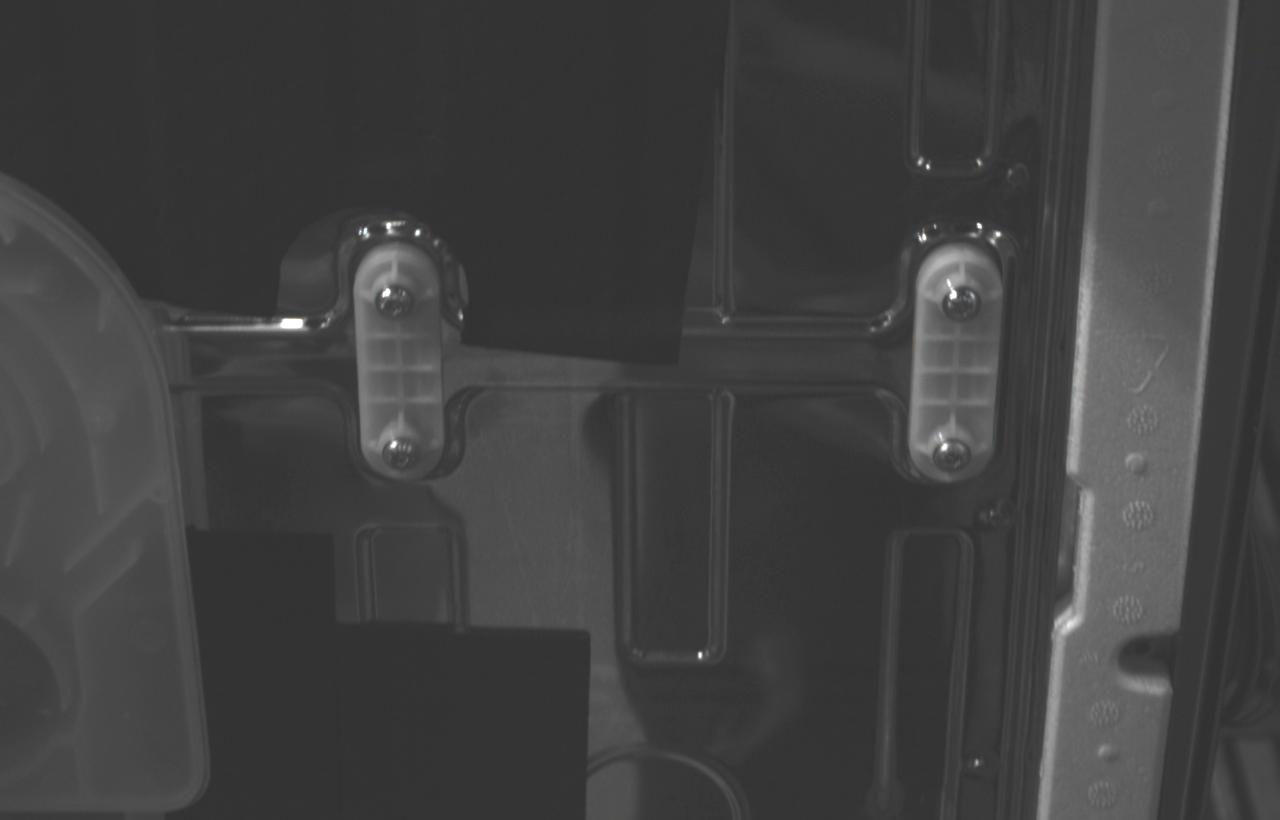vida-ok: (375, 284, 415, 320), (933, 438, 971, 473), (943, 287, 981, 322), (382, 437, 421, 471)
